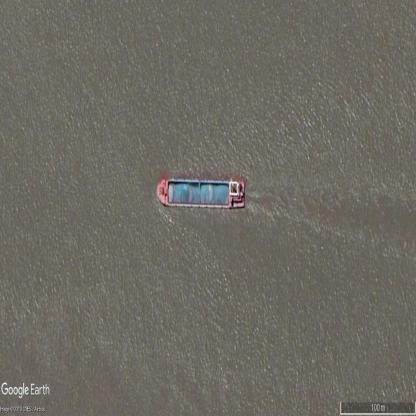ship: (157, 176, 247, 212)
